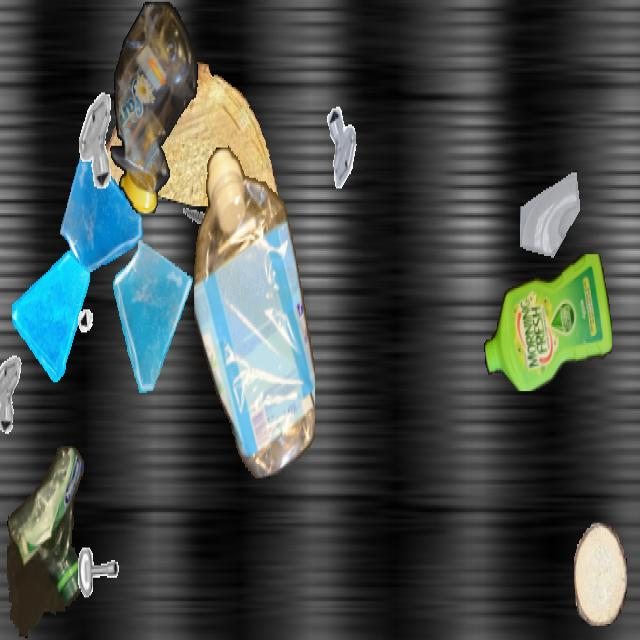glass: (107, 236, 199, 400), (59, 135, 147, 292), (12, 244, 90, 382), (520, 171, 582, 281)
metal: (65, 89, 123, 192), (72, 539, 128, 638), (320, 101, 368, 187), (178, 185, 222, 263), (75, 277, 113, 345), (0, 348, 27, 434)
plastic: (194, 144, 314, 478), (109, 2, 199, 212), (484, 255, 612, 390), (7, 443, 85, 638)
wood: (103, 62, 289, 204), (574, 522, 626, 626)
